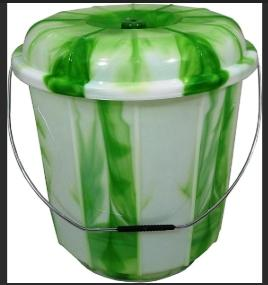SEAU: (4, 5, 260, 285)
